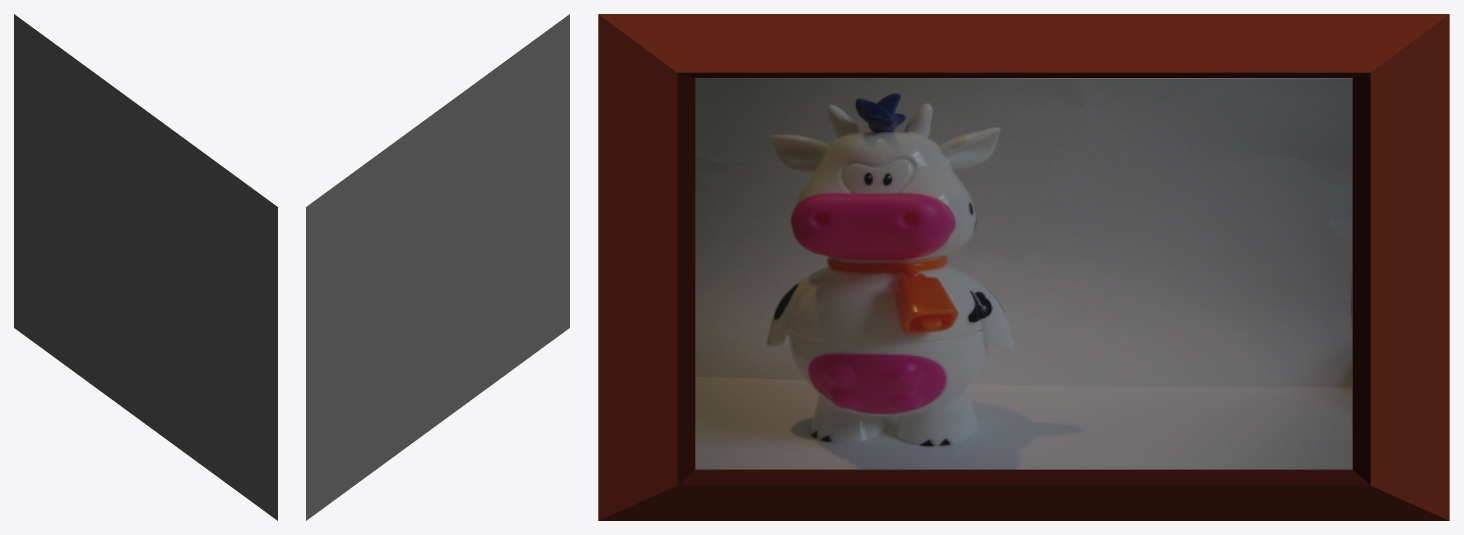
The model's file is Cow.obj.
The picture shows the model from 3 angles, left to right: view 1: azimuth 30°, elevation 25°; view 2: azimuth 150°, elevation 25°; view 3: azimuth 270°, elevation 25°; orthographic projection. The views are drawn at different scales.
Parts seen in each view (by area): view 1: Cube; view 2: Cube; view 3: Cube.
Boxes of the visible parts, x1=… form: Cube: x1=14, y1=14, x2=277, y2=520; Cube: x1=306, y1=14, x2=569, y2=520; Cube: x1=598, y1=14, x2=1449, y2=520.
Size of the model in its own units: 0.0444 by 0.9011 by 1.37.
4 materials, 2 textured.
